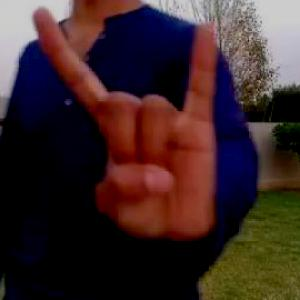takeoff-hand: (20, 0, 229, 251)
